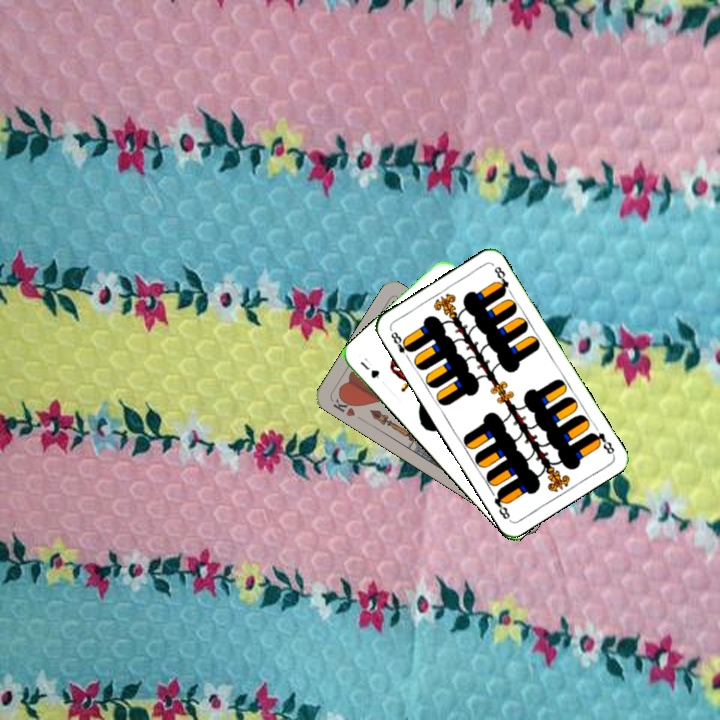E8: (387, 327, 415, 363), (586, 428, 617, 457)
GU: (356, 353, 382, 381)
HK: (328, 391, 359, 419)
